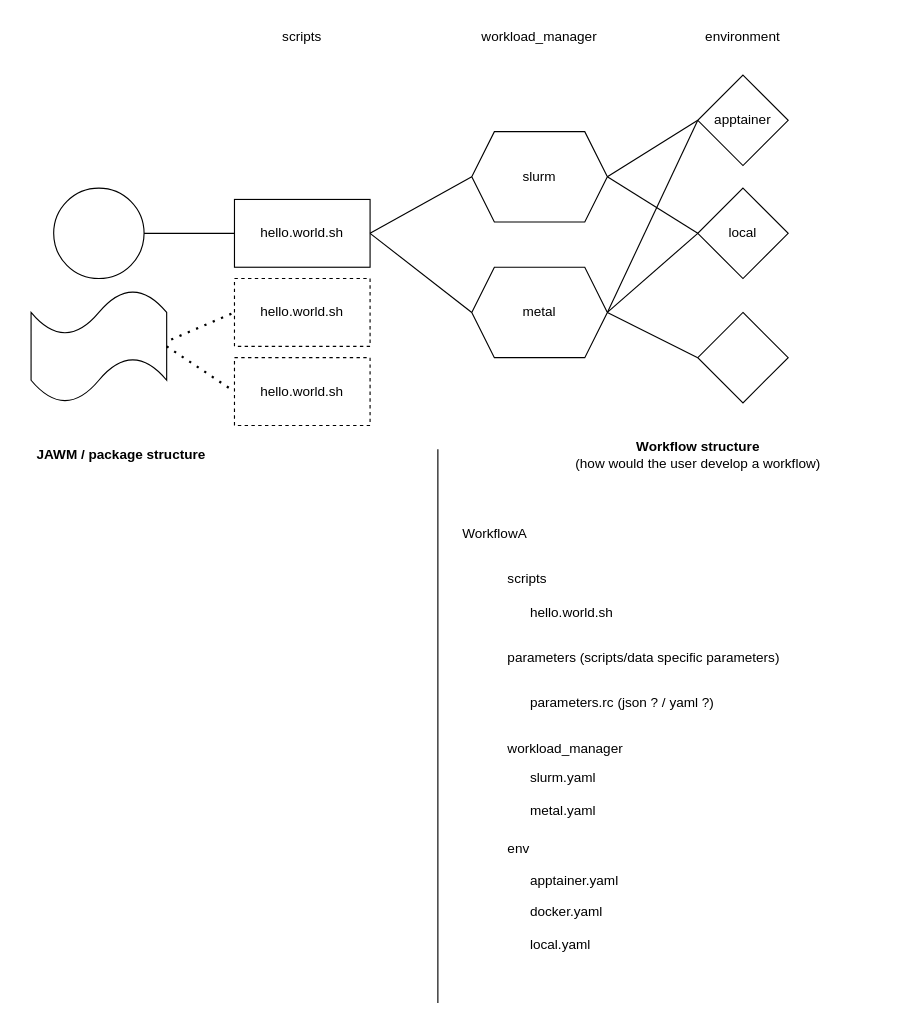
The diagram is 914 pixels wide and 1024 high, and some of its shapes have lost their labels. Here are the shapes that lost their labels. From the top down, the centre of each, then its label:
[98,233]: data
[98,346]: data pipe
[742,357]: docker
